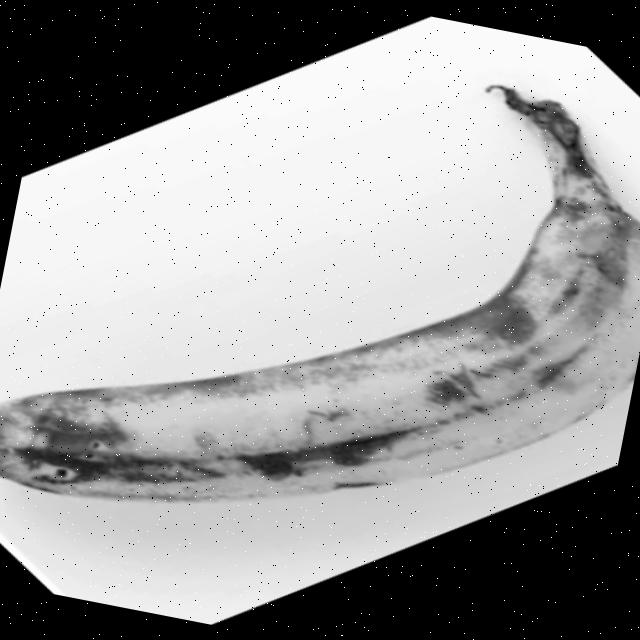overripe: (0, 1, 640, 600)
